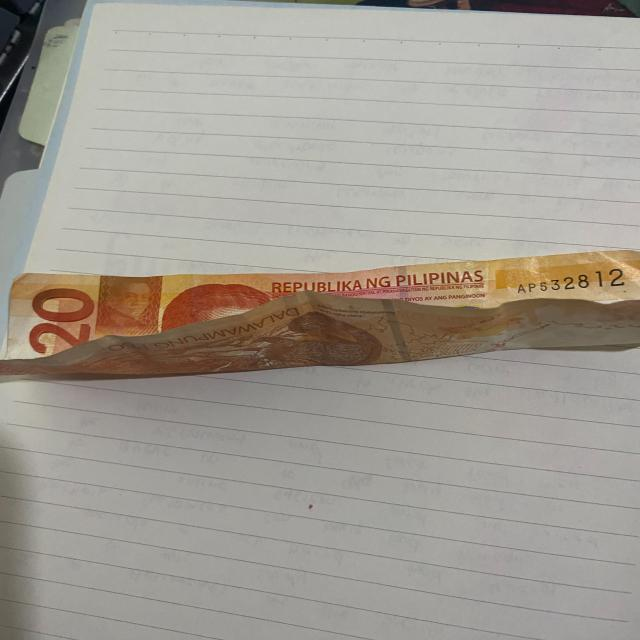concealed_value: (97, 268, 162, 336)
serial_number: (498, 256, 624, 303)
value: (26, 275, 90, 347)
